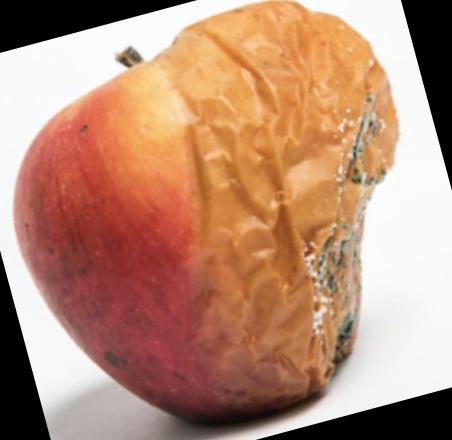Apple: (10, 11, 388, 421)
